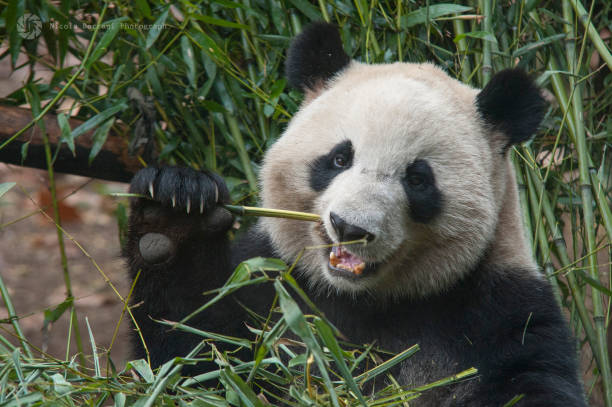panda: (234, 21, 569, 304)
